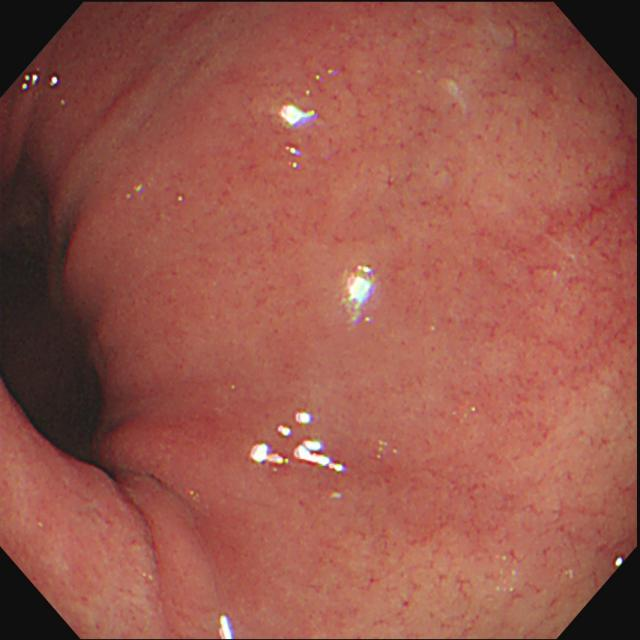E: (2, 137, 131, 499)
U: (250, 410, 346, 471), (340, 261, 376, 326), (276, 101, 320, 130), (18, 70, 60, 94), (215, 611, 235, 640), (283, 141, 302, 171), (612, 555, 627, 572)
